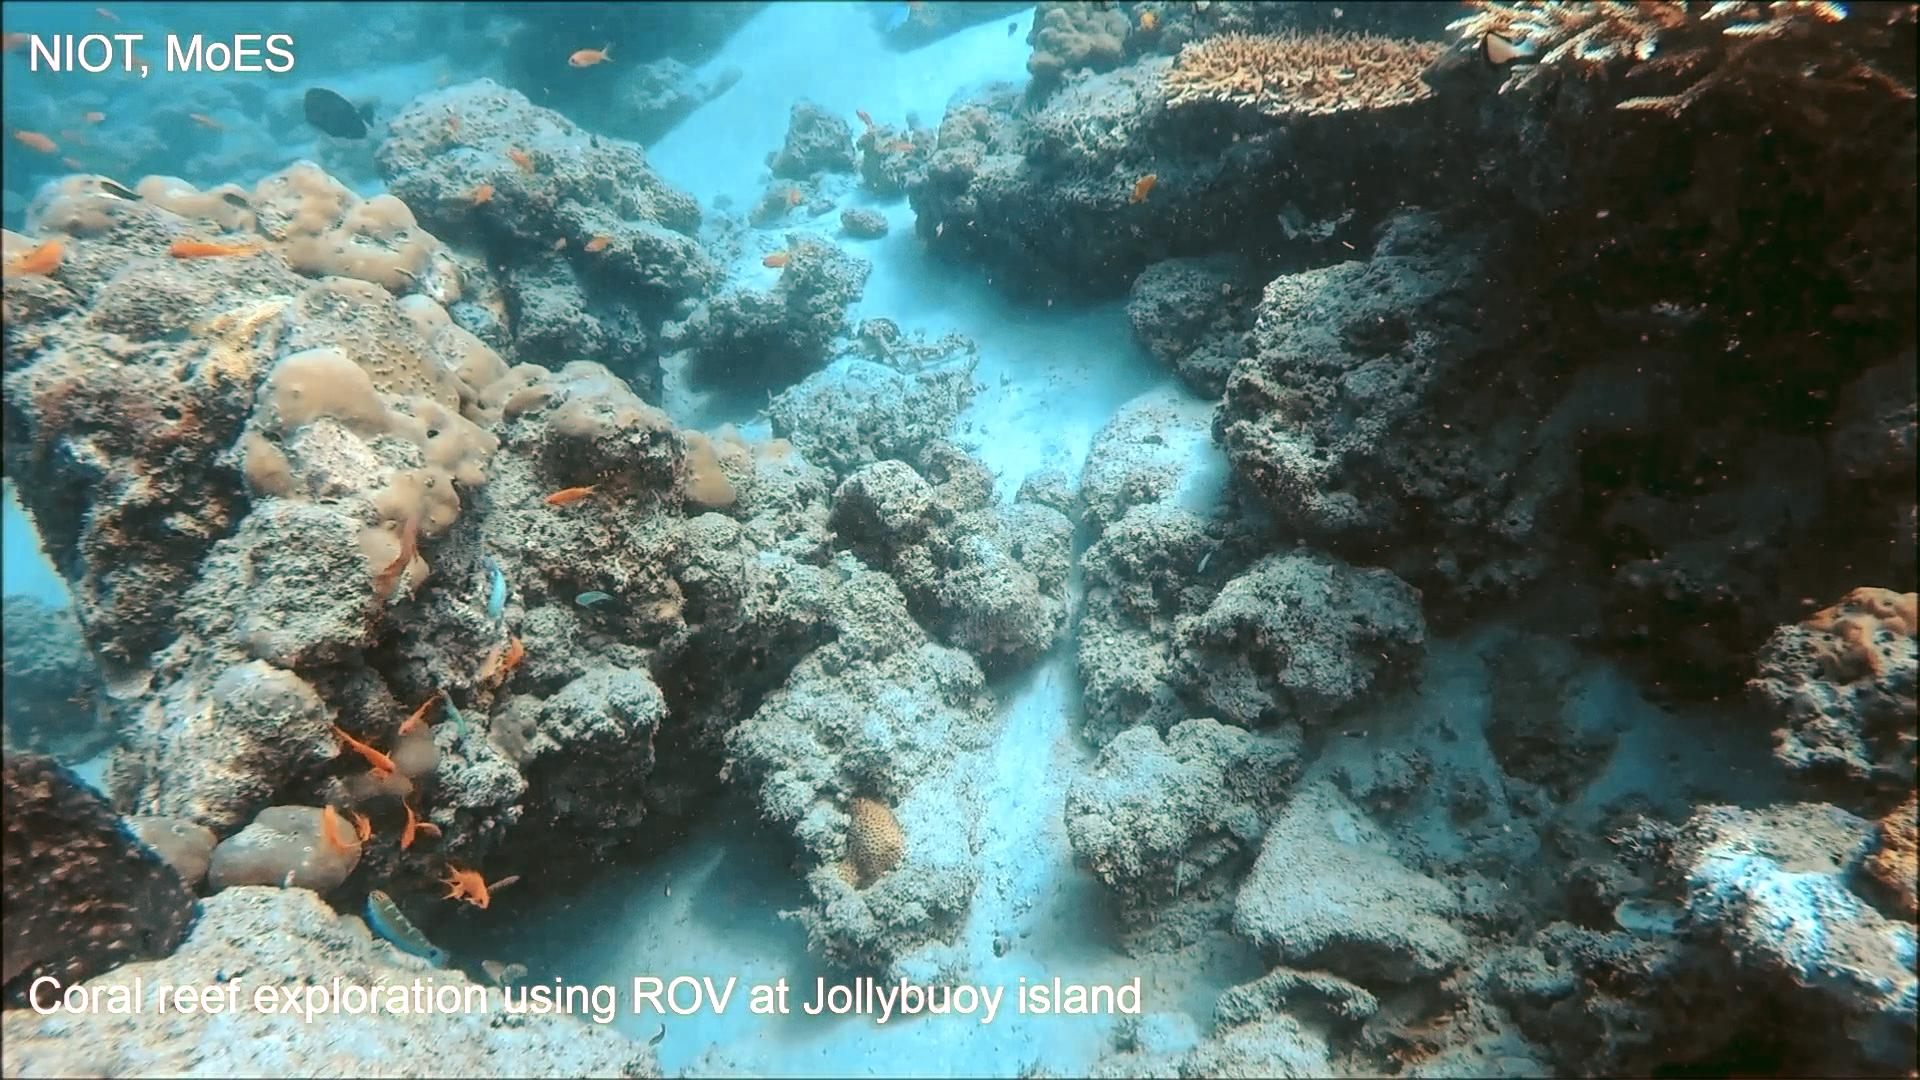Porites-Porites pukoensis: (227, 153, 564, 613)
